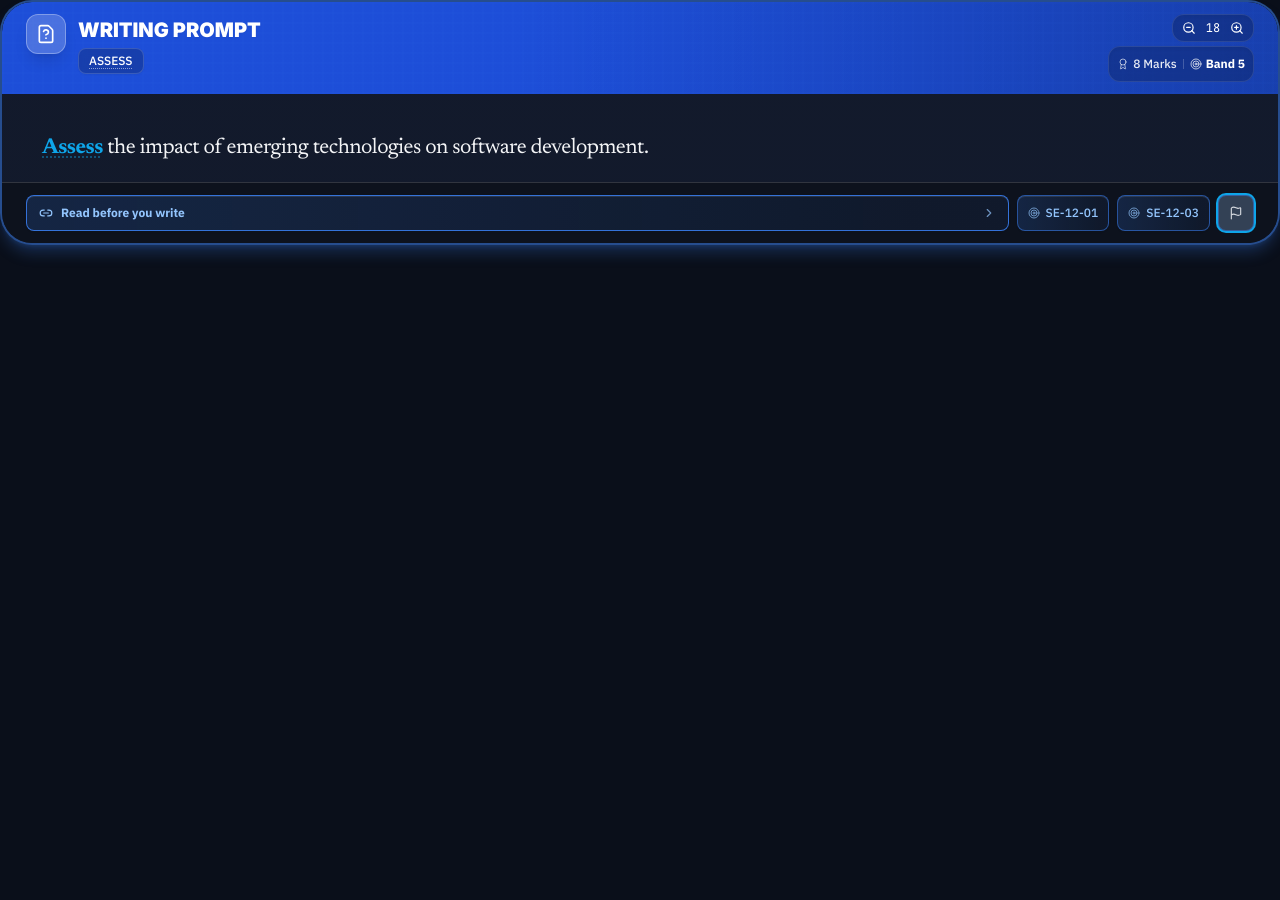
focus returns to the prompt card’s triggers › the flag button opens the flag dialog › returns focus to the flag button when the dialog is closed with Escape
Click the button named "Flag this question for review" at x=1236, y=213, box [1218,195,1254,231]
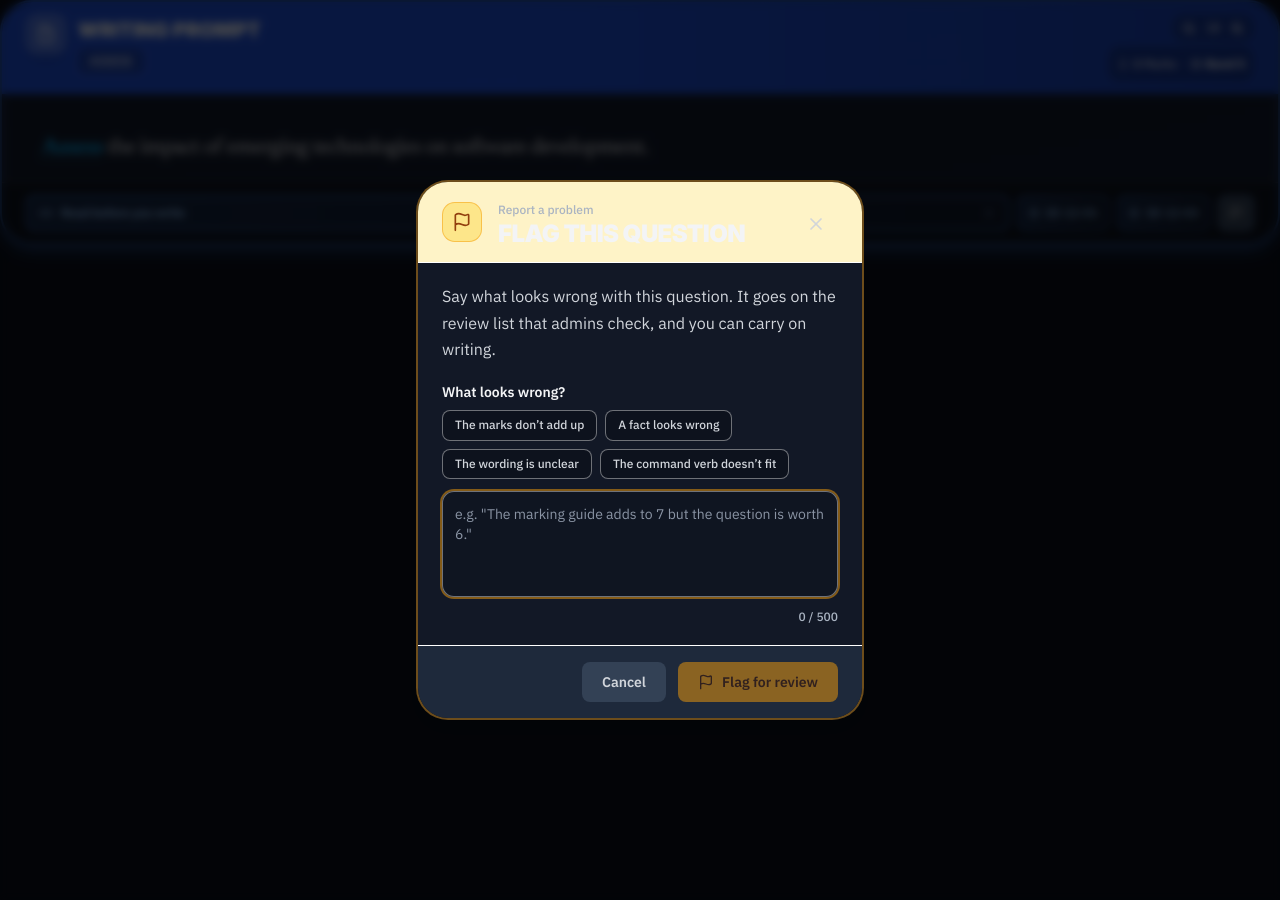
Expected: the dialog "Flag this question" is shown, [416,180,864,720]
Press Escape in the text box labelled "What looks wrong?", box [442,491,838,597]
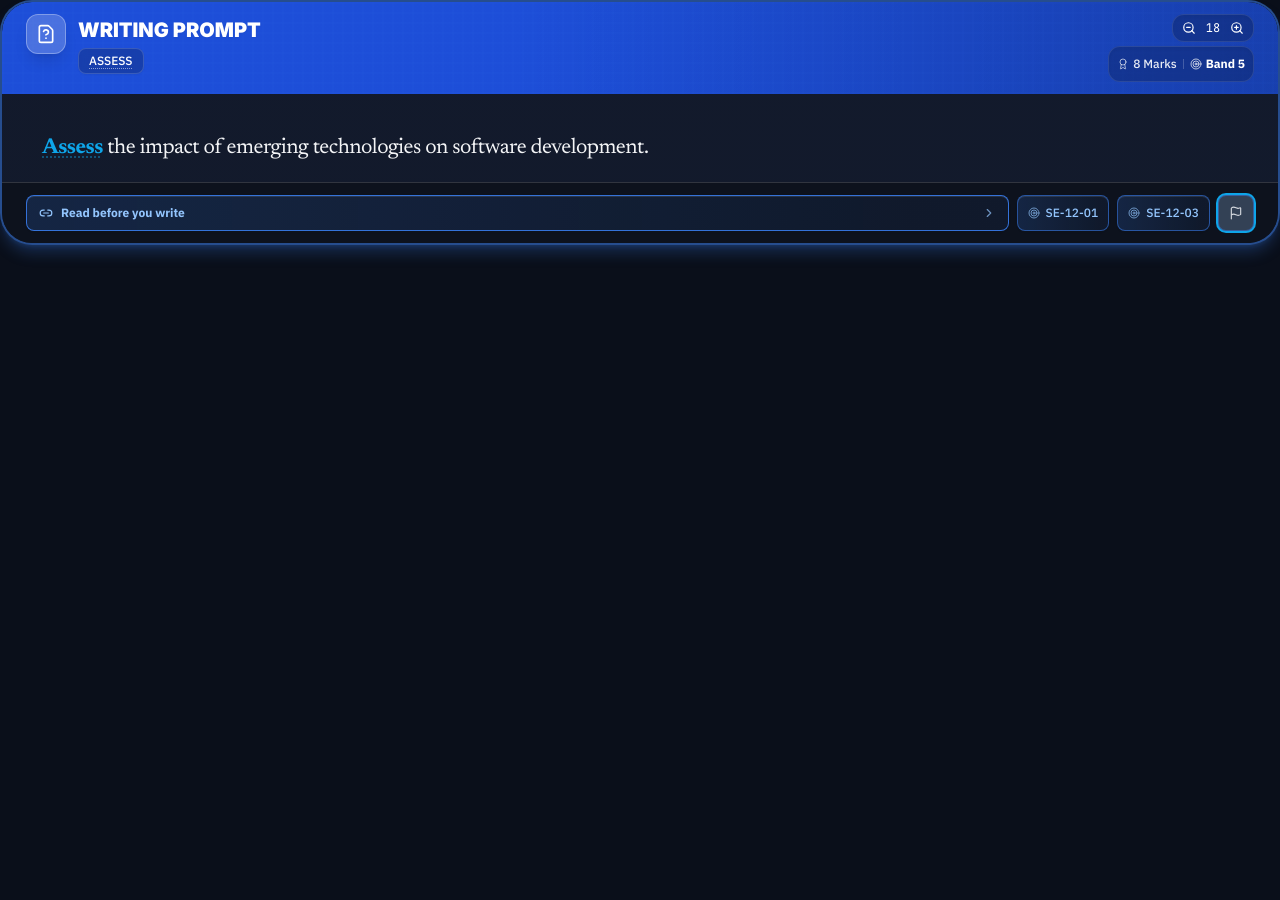
Expected: the dialog is gone
